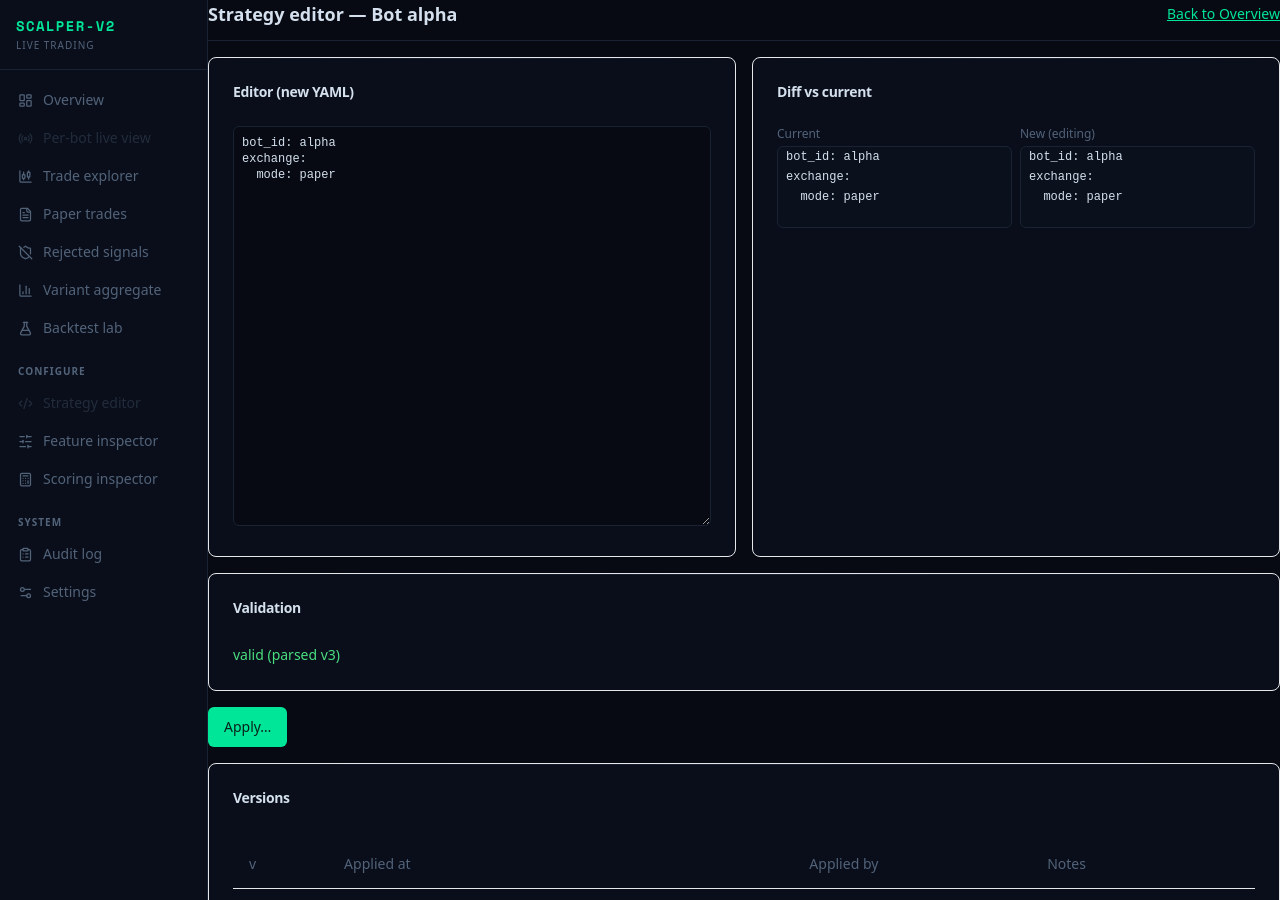
Test: Strategy editor route (T-416) › Apply button opens Apply modal with applied_by + notes form (per OQ-5=A)
What coordinates should you click on to do the following:
click the button with test id "apply-button"
I would click on:
 (248, 727)
Its box is [208,707,287,747].
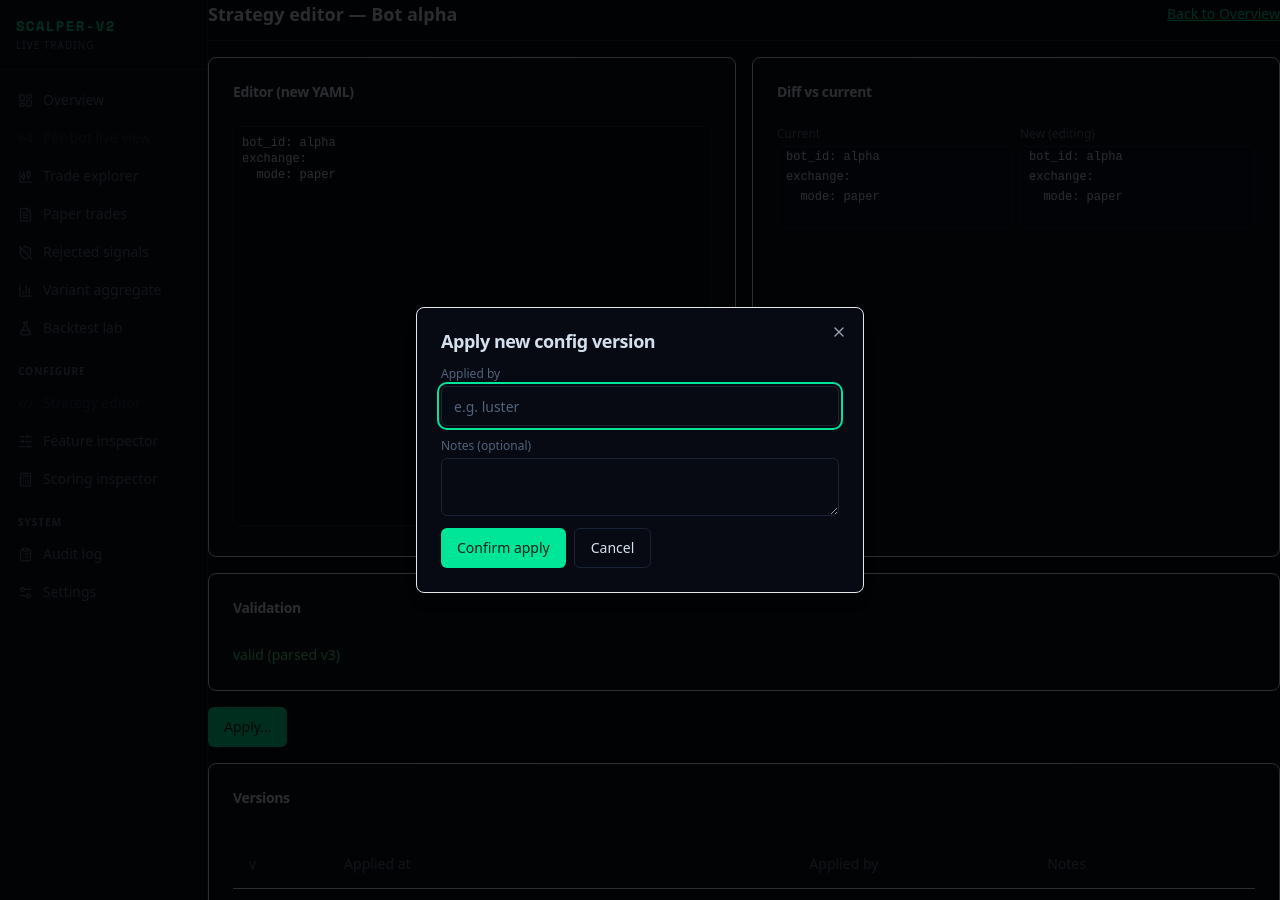
expect the field with test id "applied-by-input" is shown: met, box [441,386,839,426]
expect the text box with test id "apply-notes" is shown: met, box [441,458,839,516]
